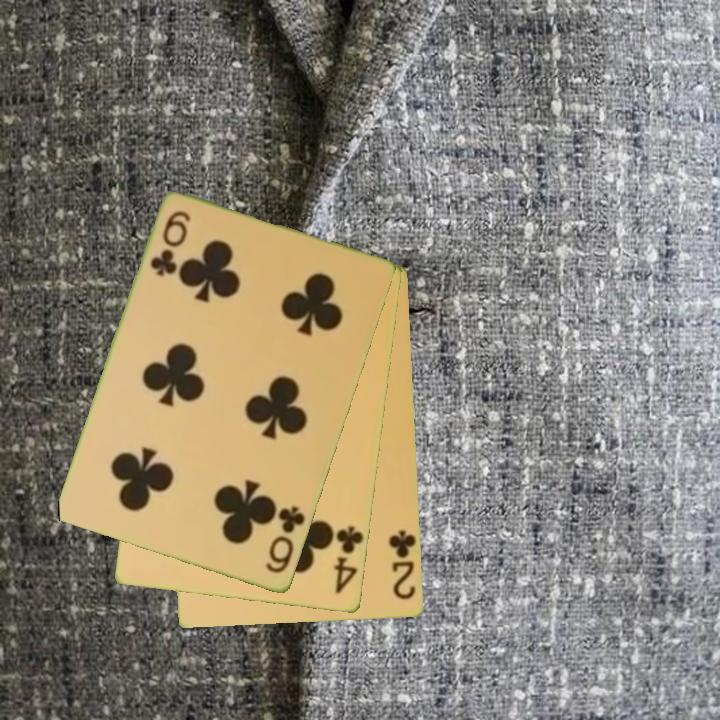2c: (386, 527, 418, 603)
4c: (330, 523, 366, 598)
6c: (262, 503, 308, 577), (147, 207, 193, 280)
